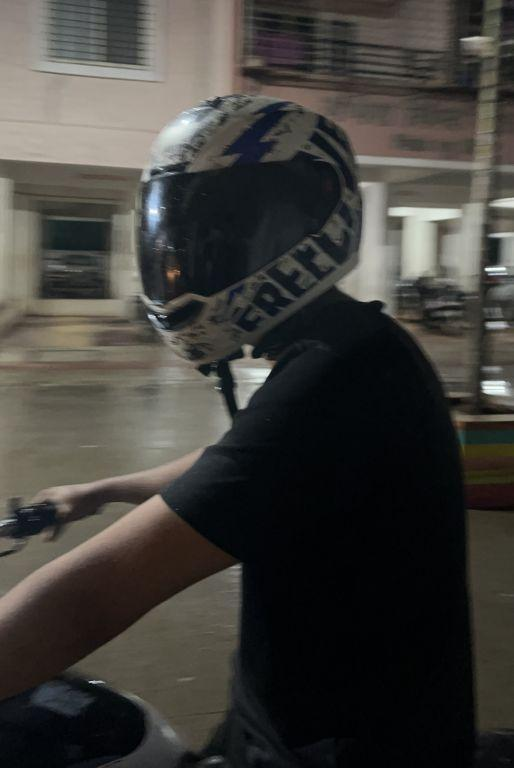helmet: (122, 85, 372, 381)
